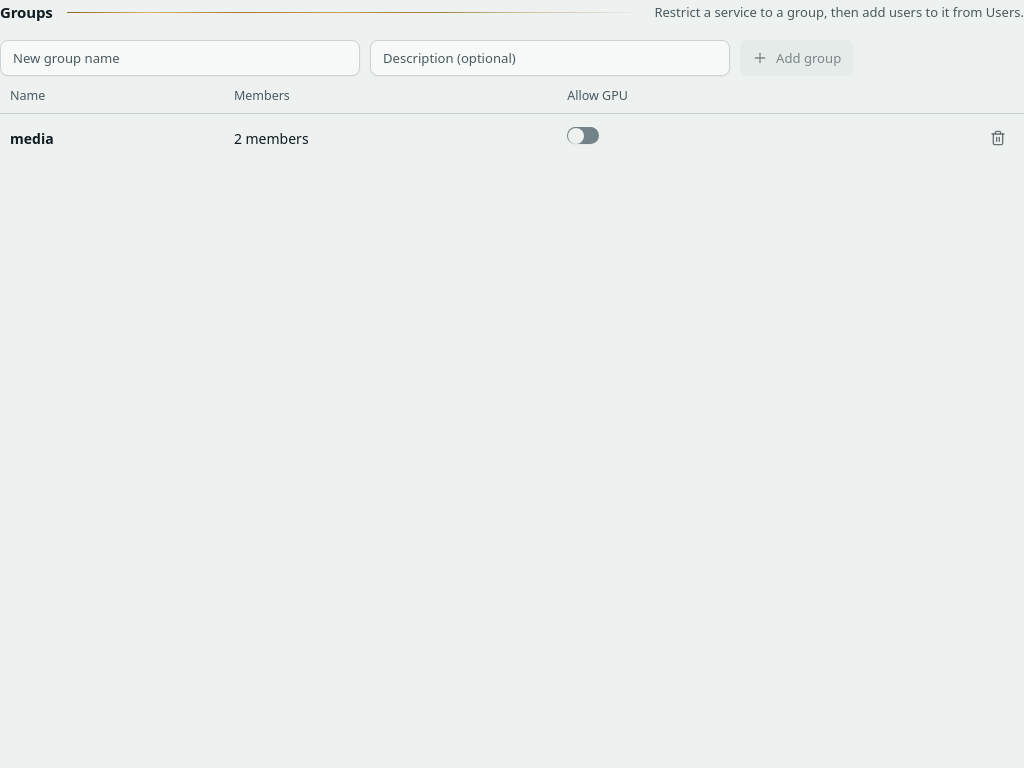
Scenario: GroupsPanel › lists groups and warns about affected services on delete
Expected: the text "media" is shown, x1=10 y1=128 x2=54 y2=148
Click the button named "delete media": (998, 138) x1=982 y1=122 x2=1014 y2=154
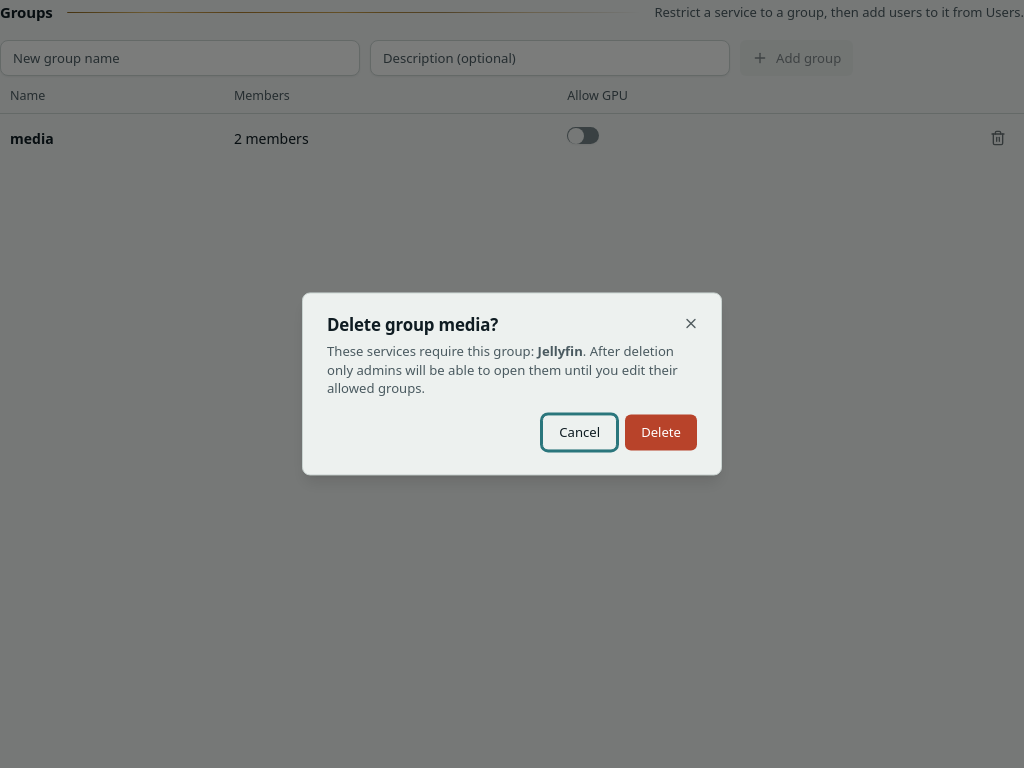
Expected: the dialog does not show "Other", x1=302 y1=292 x2=722 y2=476
Expected: the dialog shows "Jellyfin", x1=538 y1=342 x2=583 y2=360
Expected: the dialog shows "only admins will be able to open", x1=327 y1=342 x2=678 y2=398
